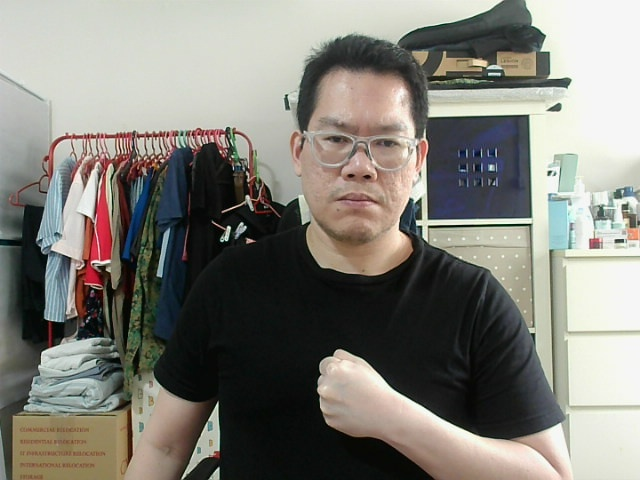sorry: (319, 354, 378, 420)
